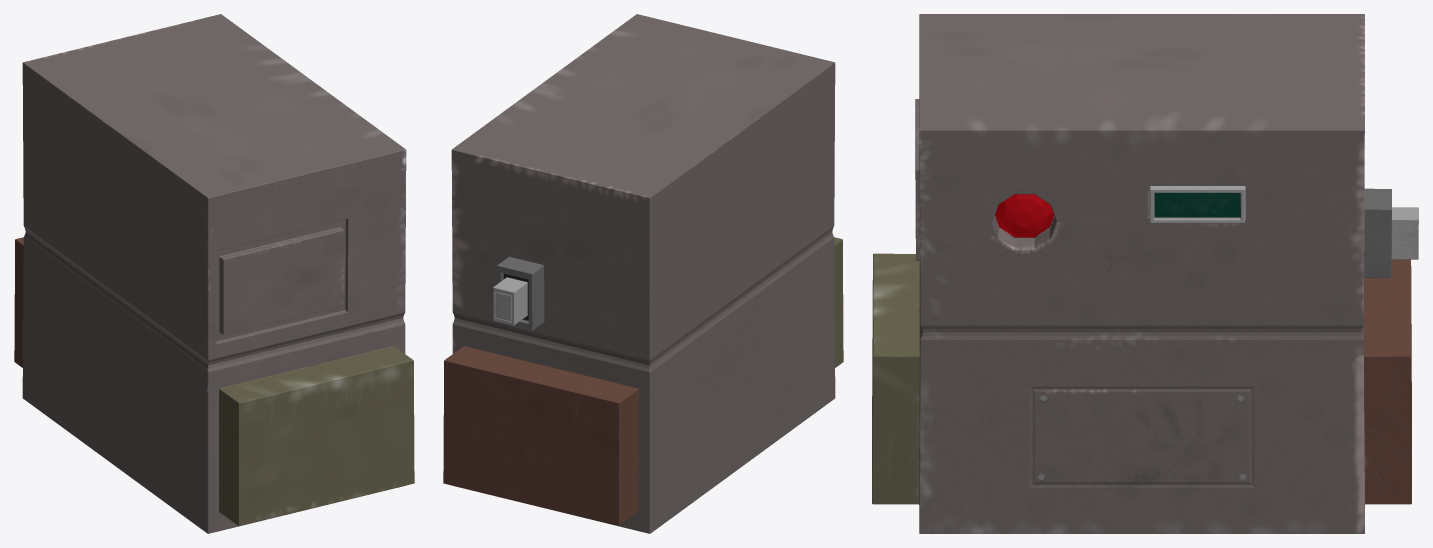
File: WallCircuitMachine.fbx
3 renders of one model, left to right at view 1: azimuth 30°, elevation 25°; view 2: azimuth 150°, elevation 25°; view 3: azimuth 270°, elevation 25°, orthographic. The views are drawn at different scales.
Visible parts, largest first — view 1: WallCircuitMachine; view 2: WallCircuitMachine; view 3: WallCircuitMachine.
Part boxes in pixels (x1,y1,x2,y2): WallCircuitMachine: (14,14,414,533); WallCircuitMachine: (443,14,843,533); WallCircuitMachine: (872,14,1418,533).
Bounding box in the file's own units: 91.33 × 74.45 × 47.11.
